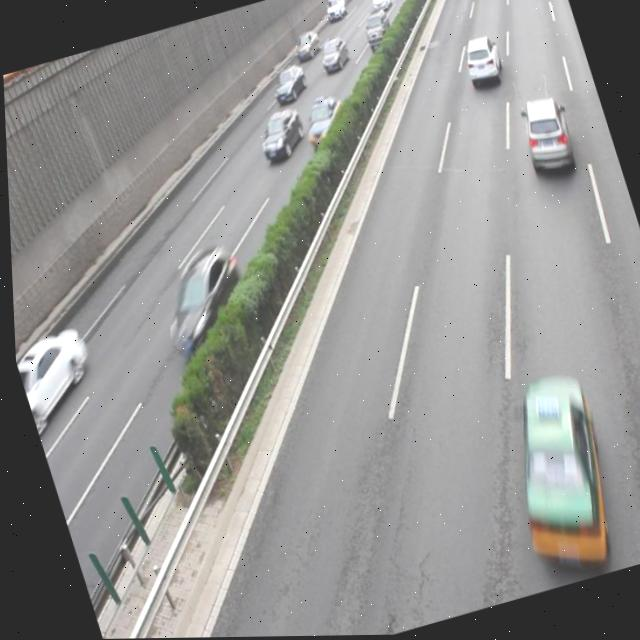car: (479, 370, 620, 560), (142, 240, 257, 362), (11, 324, 99, 429), (510, 93, 576, 180), (250, 105, 309, 167), (295, 95, 350, 151), (456, 33, 505, 92), (265, 61, 310, 106), (313, 34, 351, 74)
